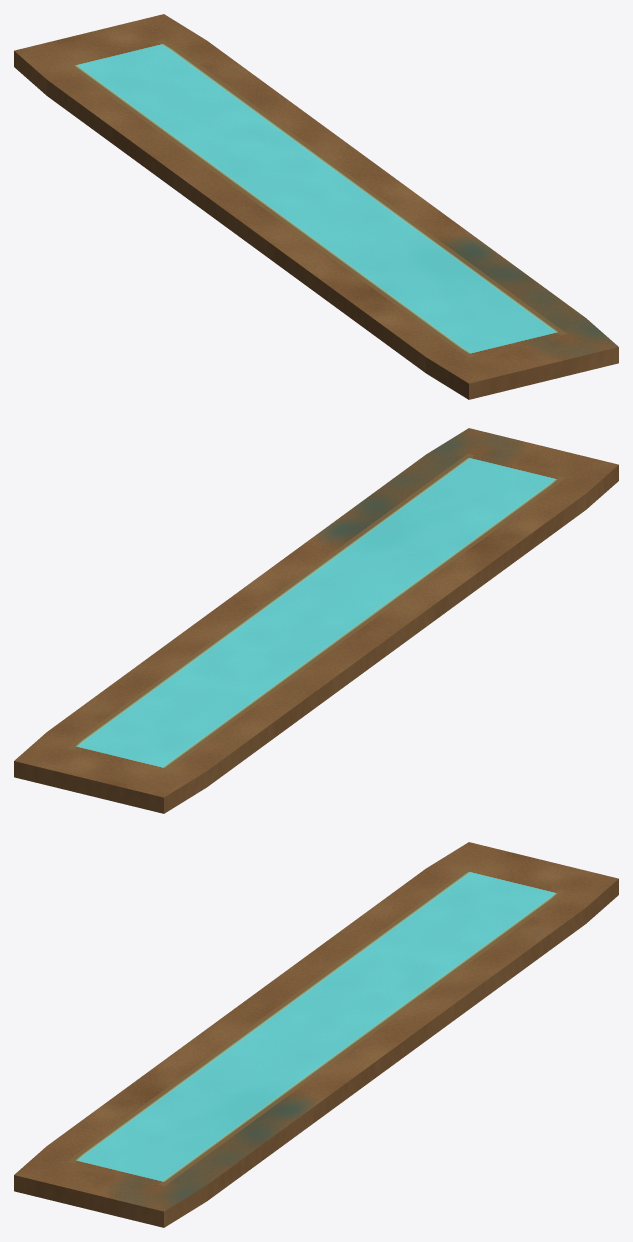
File: SurveyInlay.fbx
3 renders of one model, top to bottom at view 1: azimuth 30°, elevation 25°; view 2: azimuth 150°, elevation 25°; view 3: azimuth 330°, elevation 25°, orthographic.
Parts seen in each view (by area): view 1: SurveyInlay_LOD0; view 2: SurveyInlay_LOD0; view 3: SurveyInlay_LOD0.
Part boxes in pixels (left/top/right/bottom): SurveyInlay_LOD0: left=14, top=14, right=618, bottom=399; SurveyInlay_LOD0: left=14, top=428, right=618, bottom=813; SurveyInlay_LOD0: left=14, top=842, right=618, bottom=1227.
Size of what is drawn, in the model's own units: 15.2 by 1.48 by 74.8.
1 material, 1 textured.
